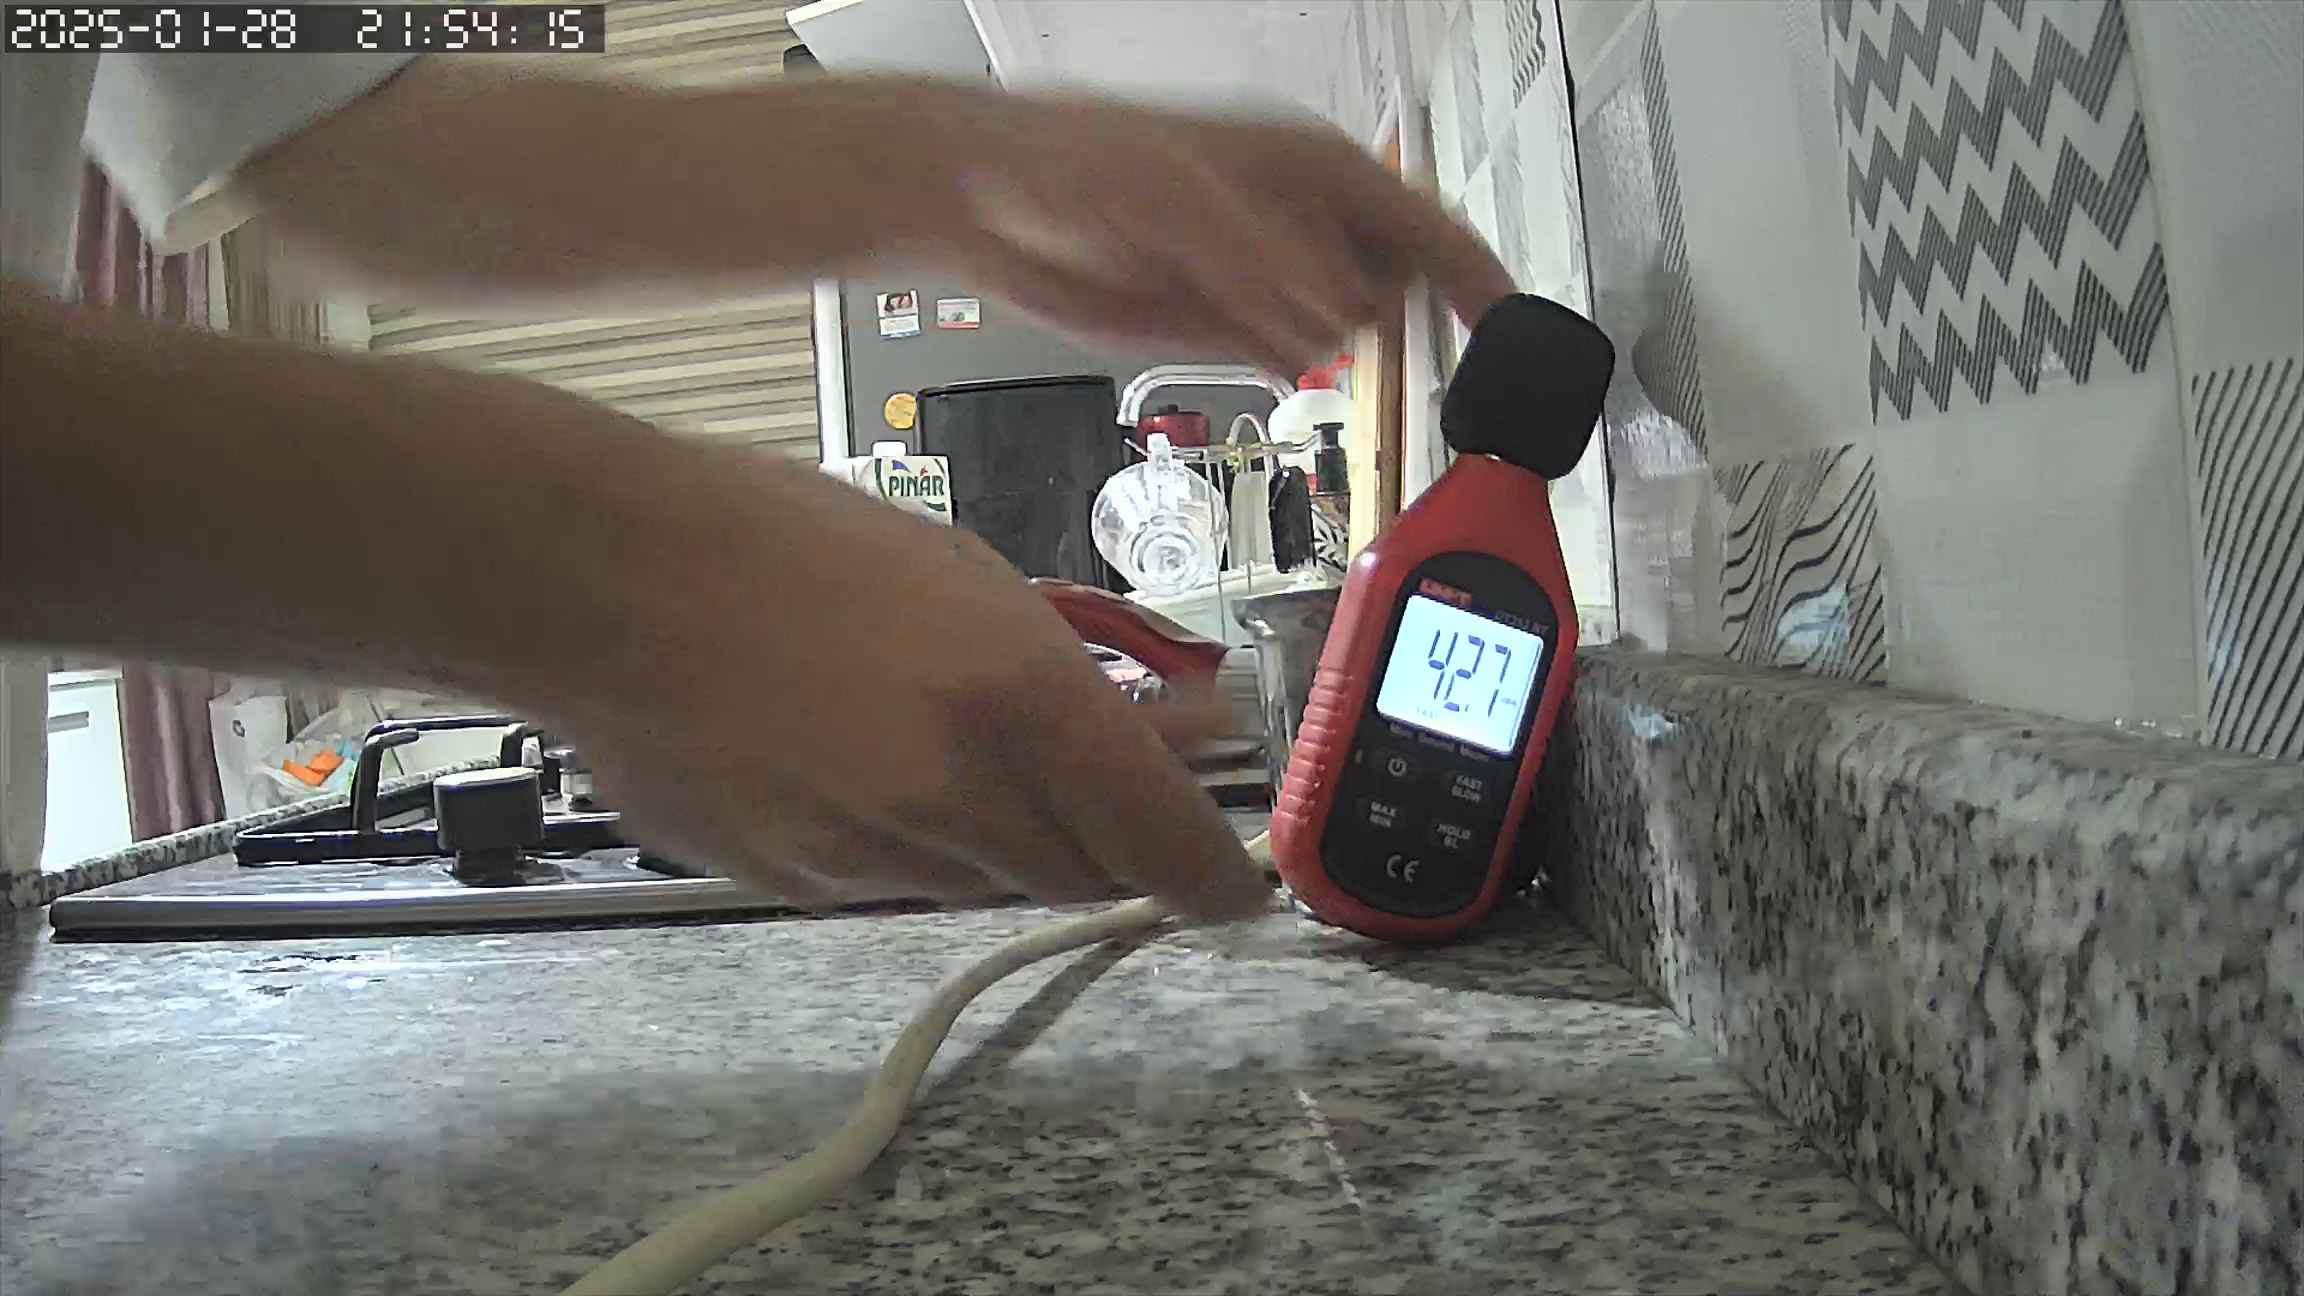screen: (1377, 597, 1544, 752)
